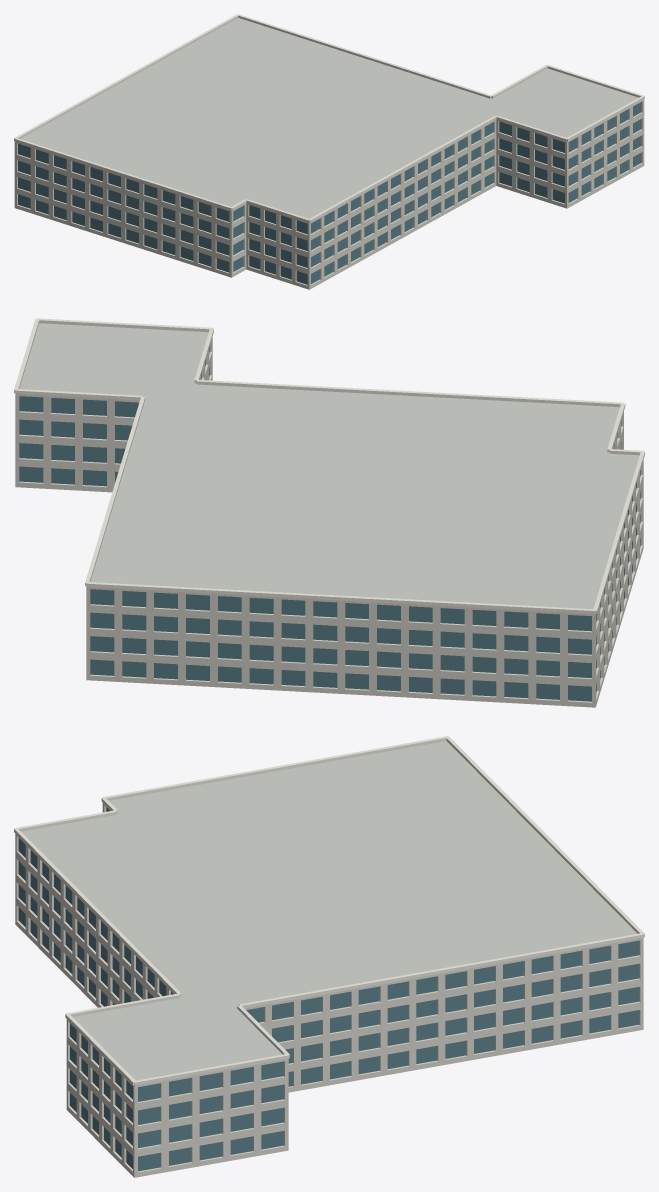
The model's file is sb_404082748.far.glb.
3 views of the same model, one above another, from view 1: azimuth 30°, elevation 25°; view 2: azimuth 150°, elevation 25°; view 3: azimuth 270°, elevation 25° (orthographic). The views are drawn at different scales.
Parts seen in each view (by area): view 1: roof, wall, glass, trim; view 2: roof, wall, glass, trim; view 3: roof, wall, glass, trim.
Part boxes in pixels (<box>): roof: <box>20,17,638,218</box>; wall: <box>14,99,644,289</box>; glass: <box>18,102,641,284</box>; trim: <box>14,14,644,222</box>; roof: <box>19,323,639,609</box>; wall: <box>15,337,643,707</box>; glass: <box>19,346,640,701</box>; trim: <box>14,318,644,614</box>; roof: <box>21,741,637,1080</box>; wall: <box>15,803,643,1177</box>; glass: <box>18,807,639,1171</box>; trim: <box>14,736,644,1085</box>.
Bounding box in the file's own units: 101 × 13.04 × 77.83.
